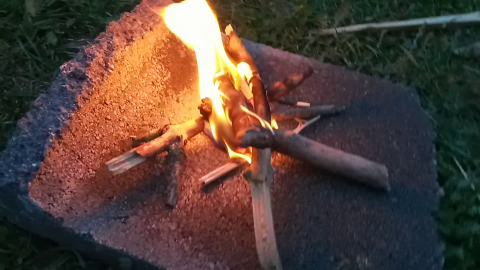fire: (147, 1, 282, 158)
